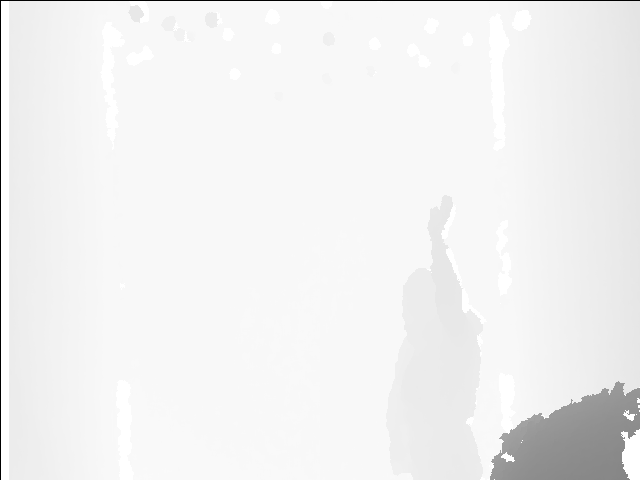hand: (425, 194, 455, 238)
